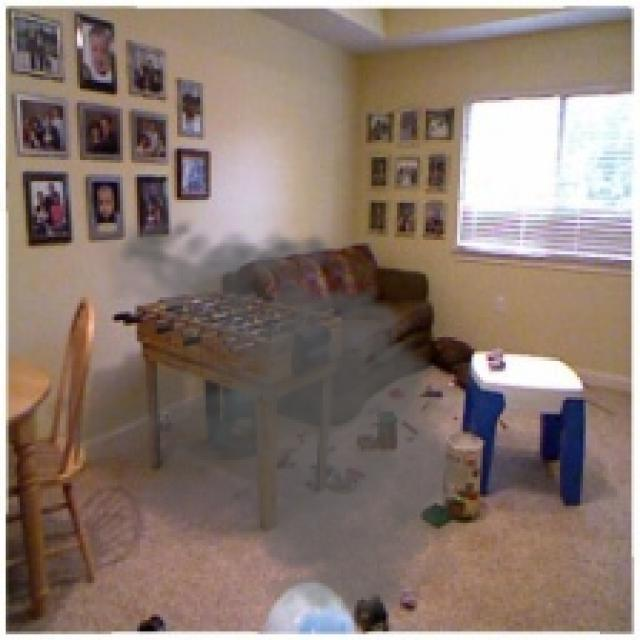Smoke: (74, 205, 494, 626)
